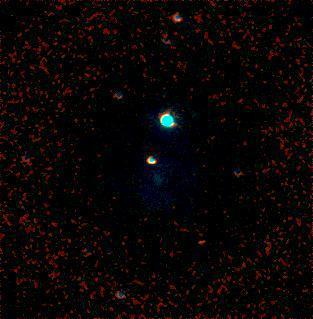star: (189, 229, 219, 259)
